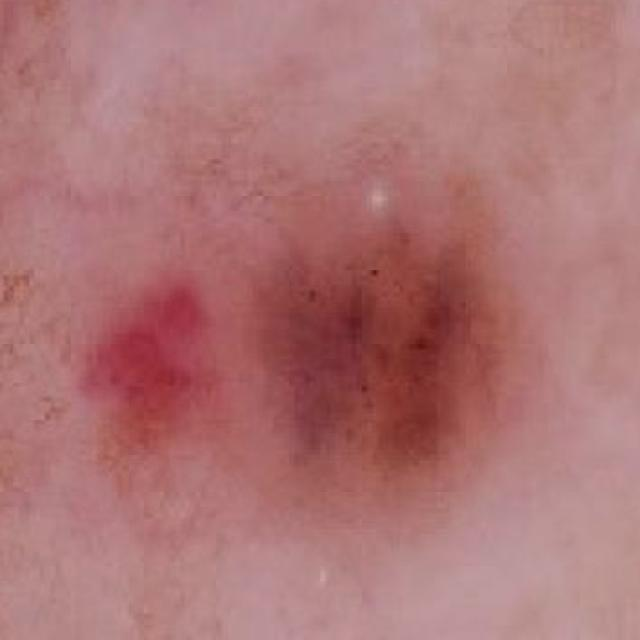BCC: (53, 111, 538, 527)
